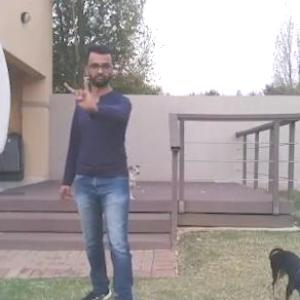takeoff-hand: (58, 69, 102, 120)
